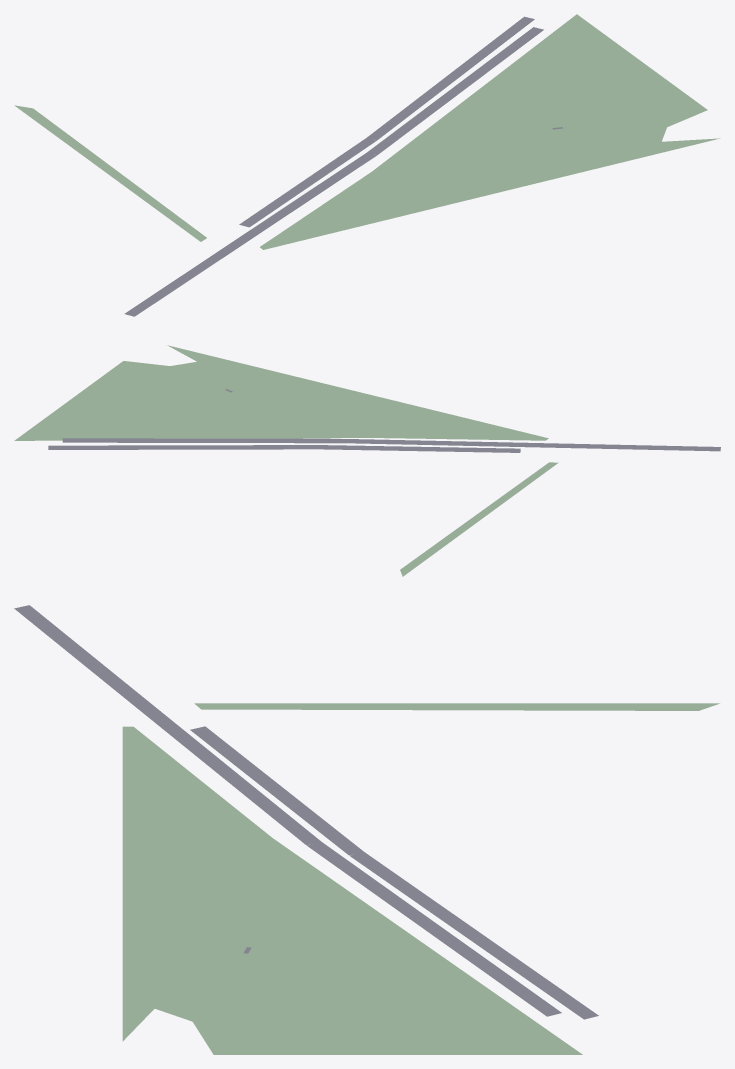
The model's file is 101_87_mid.glb.
The picture shows the model from 3 angles, top to bottom: view 1: azimuth 30°, elevation 25°; view 2: azimuth 150°, elevation 25°; view 3: azimuth 270°, elevation 25°; orthographic projection. The views are drawn at different scales.
Bounding box in the file's own units: 631 × 7.59 × 422.
